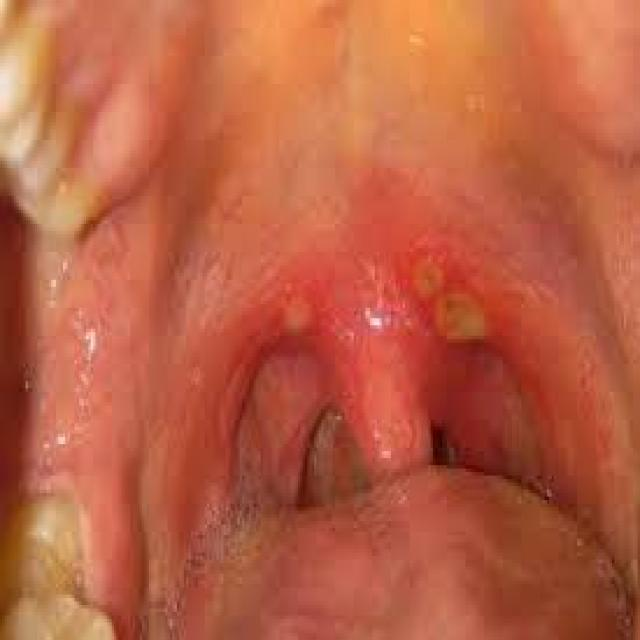processing_area: (0, 0, 638, 637)
ulcer-detection: (388, 216, 523, 364), (251, 246, 347, 370)
